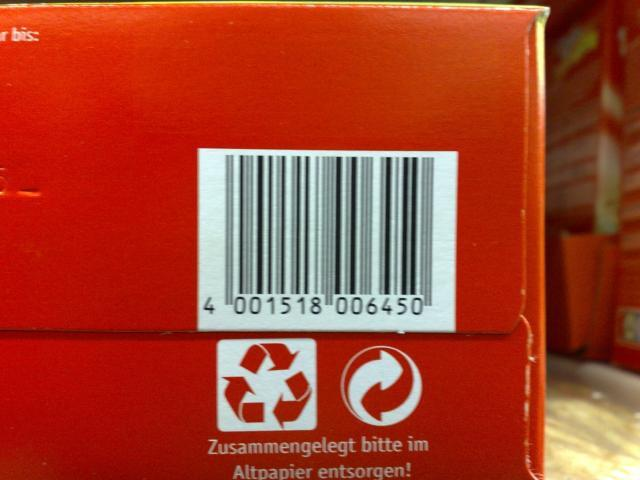Barcode: (201, 153, 438, 326)
